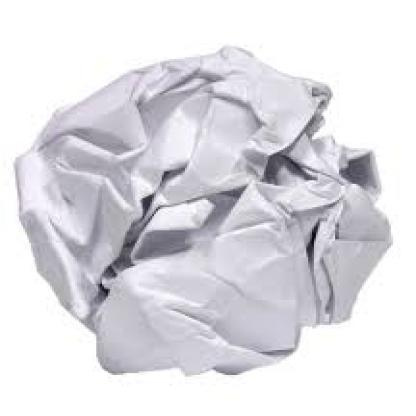paper: (12, 45, 389, 373)
